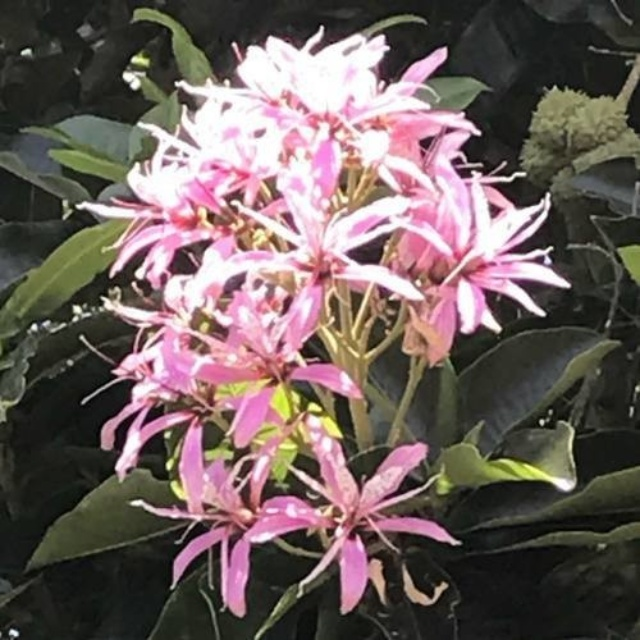obstacle: (79, 41, 530, 588)
